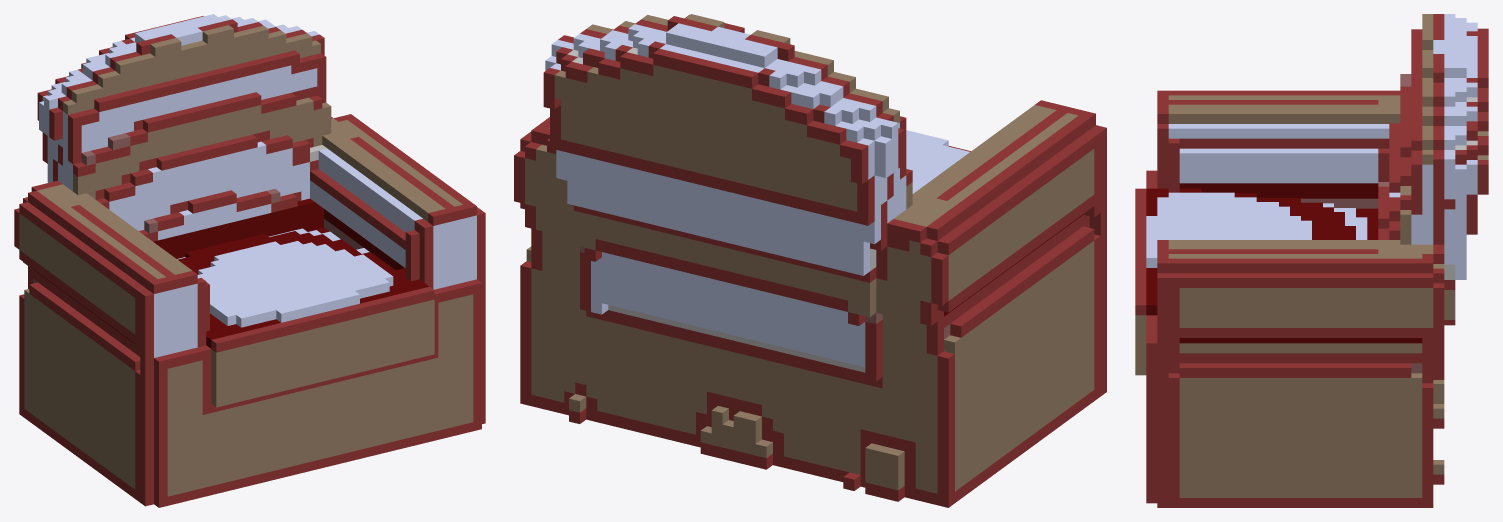
Rendered from divan-kreslo rassc.obj.
3 renders of one model, left to right at view 1: azimuth 30°, elevation 25°; view 2: azimuth 150°, elevation 25°; view 3: azimuth 270°, elevation 25°, orthographic. The views are drawn at different scales.
Bounding box in the file's own units: 39 × 37 × 32.
Materials: 1 (1 with a texture image).
